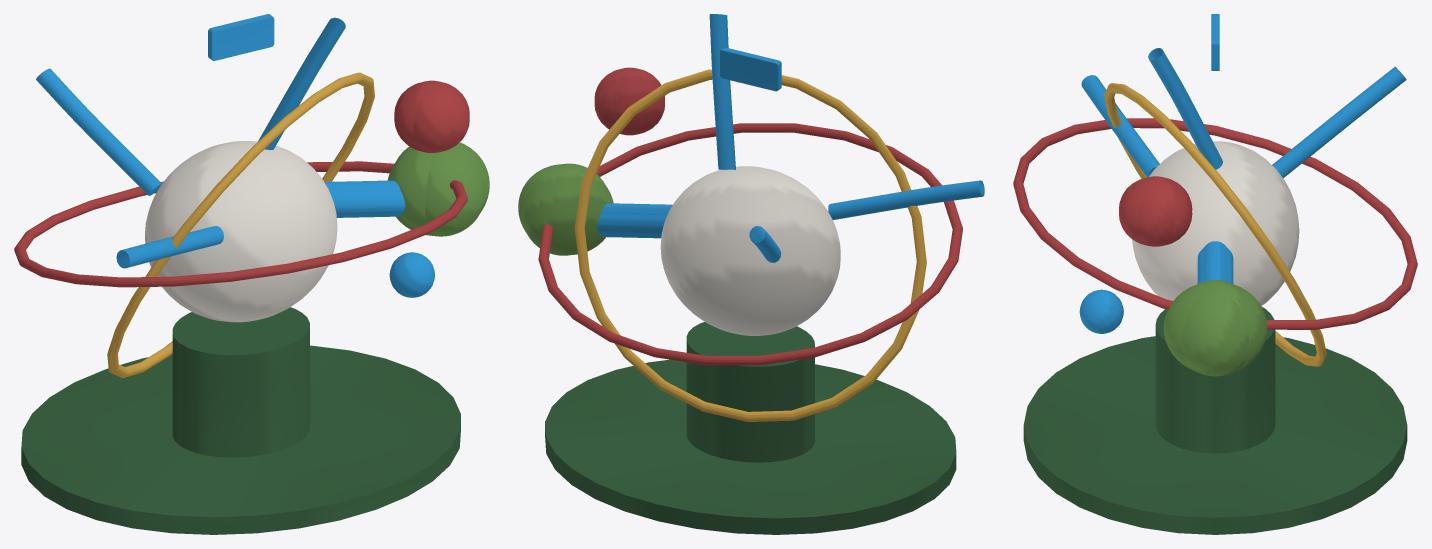
File: 0524_生活中的化学图鉴_鹤顶红.glb
3 views of the same model, side by side, from view 1: azimuth 30°, elevation 25°; view 2: azimuth 150°, elevation 25°; view 3: azimuth 270°, elevation 25° (orthographic). The views are drawn at different scales.
Parts seen in each view (by area): view 1: card_0524; view 2: card_0524; view 3: card_0524.
Part boxes in pixels (bbox=[...]): card_0524: bbox=[14, 14, 489, 534]; card_0524: bbox=[518, 14, 984, 534]; card_0524: bbox=[1013, 14, 1417, 534].
Bounding box in the file's own units: 1.07 × 1 × 0.8684.
